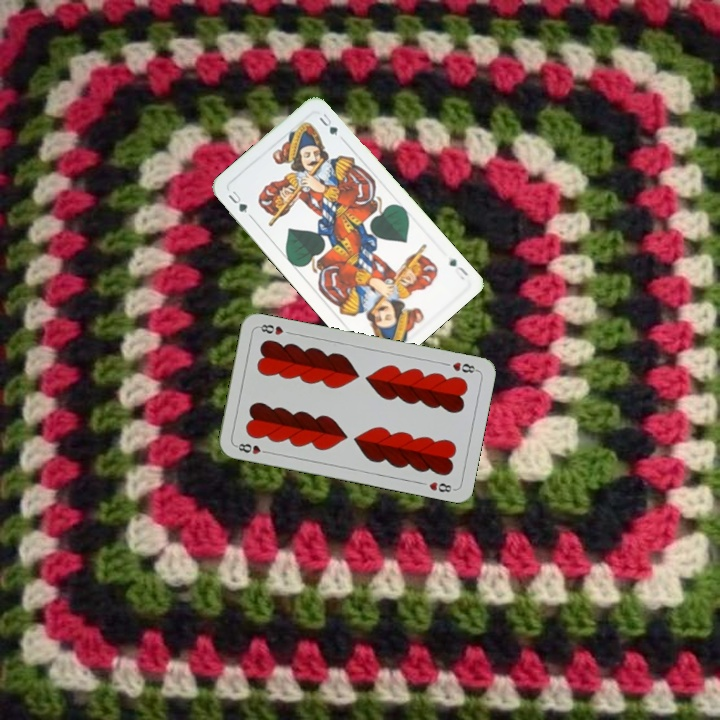GU: (224, 186, 250, 216), (445, 255, 471, 282)
H8: (232, 439, 272, 457), (448, 358, 480, 376)
